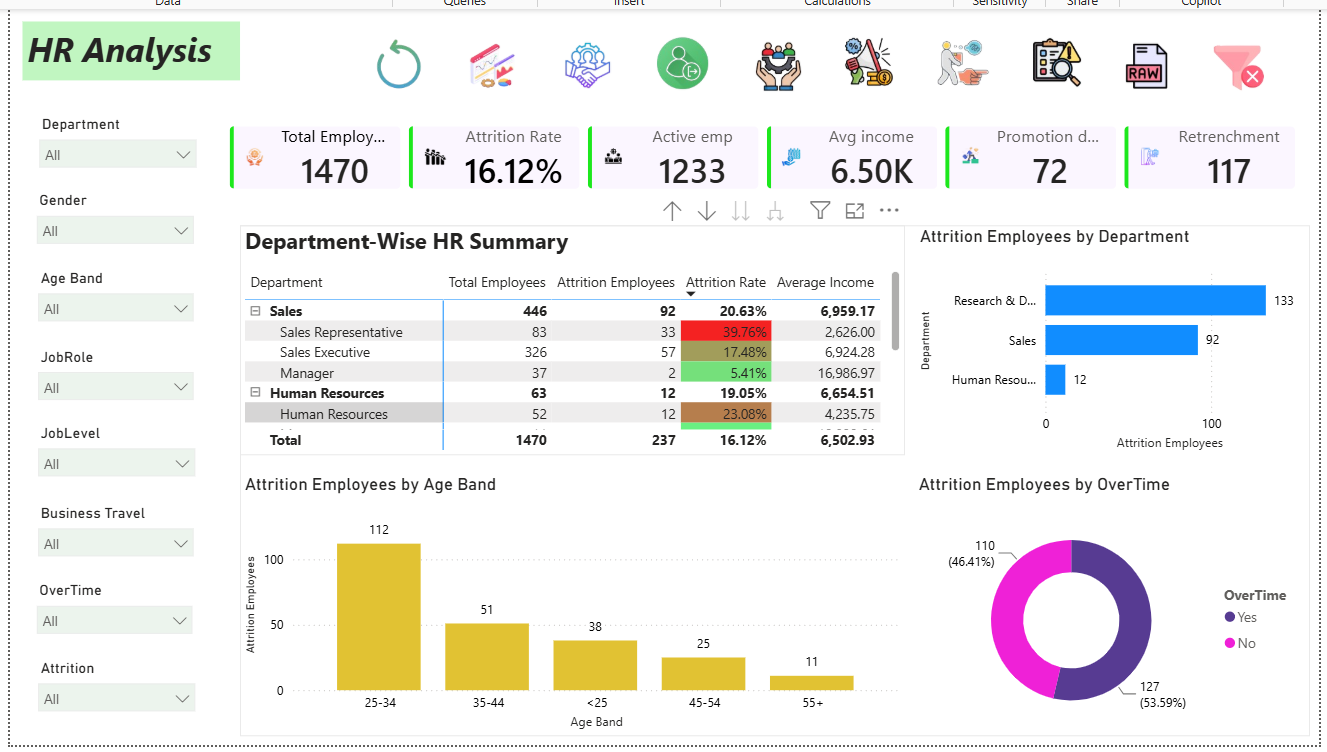

The dashboard page shown, as its layout file describes it:
{"tool":"powerbi","page":{"name":"HR Dashboard","canvas":[1280,720],"ordinal":0},"visuals":[{"type":"textbox","box":[12.1,12.1,212.9,57.9],"z":0},{"type":"ChicletSlicer1448559807354","fields":{"Category":["HR Metrics.HR Metrics"]},"box":[199.3,195.7,1081,99],"z":0,"group":"g1"},{"type":"cardVisual","fields":{"Data":["Measures#.Total Employees","Measures#.Attrition Rate","Measures#.Active Employees","Measures#.Average Monthly Income","Measures#.Promotion Due Employees","Measures#.Retrenchment"]},"box":[198.6,98.1,1081.2,95.6],"z":1000},{"type":"ChicletSlicer1448559807354","fields":{"Category":["HR Attributes.HR Attributes"]},"box":[199.3,303.3,1081,97.8],"z":1000,"group":"g1"},{"type":"slicer","fields":{"Values":["Employee_Master.Department"]},"box":[17.9,98.6,173.6,68.5],"z":2000},{"type":"clusteredColumnChart","fields":{"Category":["Employee_Master.JobLevel"],"Y":["Measures#.Retention Rate","Measures#.Attrition Rate"]},"box":[225,410.9,1043.1,288.6],"z":2000,"group":"g1"},{"type":"slicer","fields":{"Values":["Employee_Master.Gender"]},"box":[16.2,173.8,173.8,68.7],"z":3000},{"type":"slicer","fields":{"Values":["Employee_Master.Age Band"]},"box":[17.5,249.3,172.5,68.7],"z":4000},{"type":"slicer","fields":{"Values":["Employee_Master.JobRole"]},"box":[17.5,326.1,172.5,68.7],"z":5000},{"type":"slicer","fields":{"Values":["Employee_Master.OverTime"]},"box":[16.2,555.2,172.5,68.7],"z":6000},{"type":"slicer","fields":{"Values":["Employee_Master.JobLevel"]},"box":[17.5,401.6,173.8,68.7],"z":7000},{"type":"slicer","fields":{"Values":["Employee_Master.Business Travel"]},"box":[17.5,479.8,172.5,68.7],"z":8000},{"type":"slicer","fields":{"Values":["Employee_Master.Attrition"]},"box":[17.5,630.7,173.8,68.7],"z":9000},{"type":"image","box":[434.2,21,78.2,70.1],"z":10000},{"type":"image","box":[803.5,21,78.2,70.1],"z":11000},{"type":"image","title":"Reset","box":[342.6,21,78,70],"z":12000},{"type":"image","box":[525.9,21,78.2,70.1],"z":13000},{"type":"image","box":[617.5,21,78.2,70.1],"z":14000},{"type":"image","box":[711.8,21,78.2,70.1],"z":15000},{"type":"image","box":[984.3,21.1,78.2,69.5],"z":16000},{"type":"image","box":[1075,21.1,78.2,69.5],"z":17000},{"type":"image","box":[1165.6,21.1,78.2,69.5],"z":18000},{"type":"group","id":"g1","title":"HR Analysis Panel","box":[199.3,195.7,1081,503.8],"z":19000},{"type":"image","box":[893.7,21.1,78.2,69.5],"z":24000}]}

Visuals, with their boxes on the page's 1280x720 design canvas (x1, y1, x2, y2). These are canvas units, not pixel positions in the 1327x752 screenshot, which may show the page scaled, cropped or inside an application window:
textbox: [12, 12, 225, 70]
ChicletSlicer1448559807354 - HR Metrics.HR Metrics: [199, 196, 1280, 295]
cardVisual - Measures#.Total Employees x Measures#.Attrition Rate: [199, 98, 1280, 194]
ChicletSlicer1448559807354 - HR Attributes.HR Attributes: [199, 303, 1280, 401]
slicer - Employee_Master.Department: [18, 99, 192, 167]
clusteredColumnChart - Employee_Master.JobLevel x Measures#.Retention Rate: [225, 411, 1268, 700]
slicer - Employee_Master.Gender: [16, 174, 190, 242]
slicer - Employee_Master.Age Band: [18, 249, 190, 318]
slicer - Employee_Master.JobRole: [18, 326, 190, 395]
slicer - Employee_Master.OverTime: [16, 555, 189, 624]
slicer - Employee_Master.JobLevel: [18, 402, 191, 470]
slicer - Employee_Master.Business Travel: [18, 480, 190, 548]
slicer - Employee_Master.Attrition: [18, 631, 191, 699]
image: [434, 21, 512, 91]
image: [804, 21, 882, 91]
"Reset" image: [343, 21, 421, 91]
image: [526, 21, 604, 91]
image: [618, 21, 696, 91]
image: [712, 21, 790, 91]
image: [984, 21, 1062, 91]
image: [1075, 21, 1153, 91]
image: [1166, 21, 1244, 91]
"HR Analysis Panel" group: [199, 196, 1280, 700]
image: [894, 21, 972, 91]
